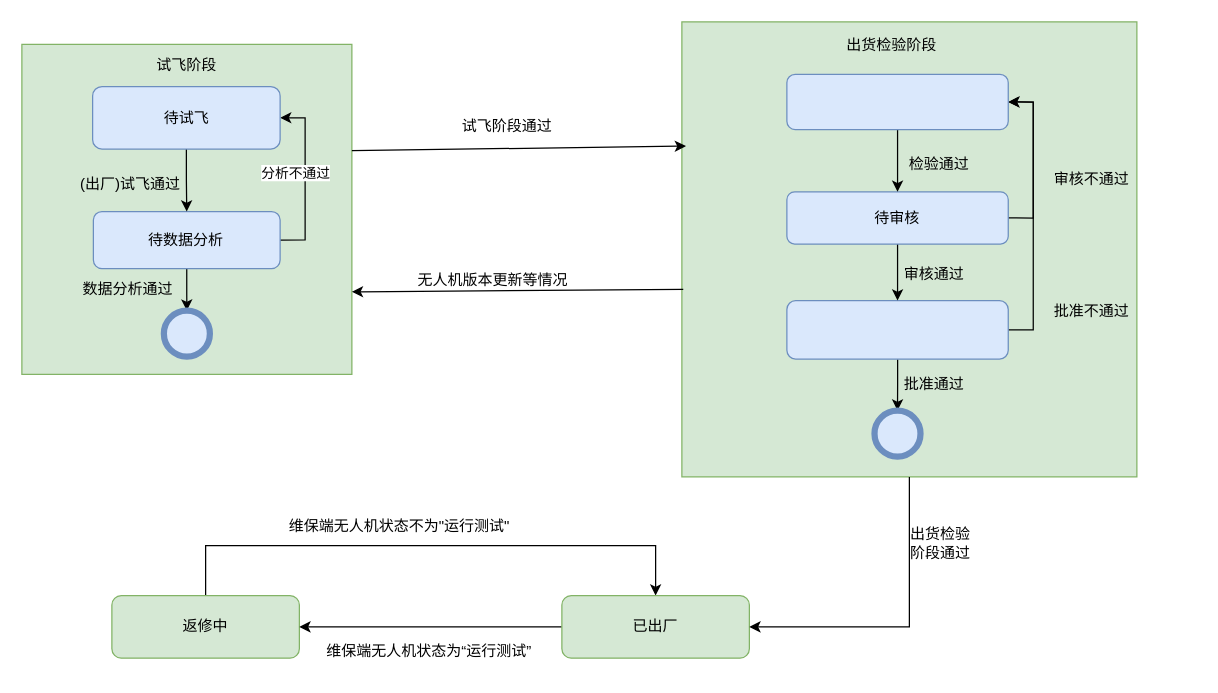
This 1218x693 diagram has some shape labels left out. Each missing label, with the centre of its shape:
待批准: (897,329)
待检验: (897,101)
